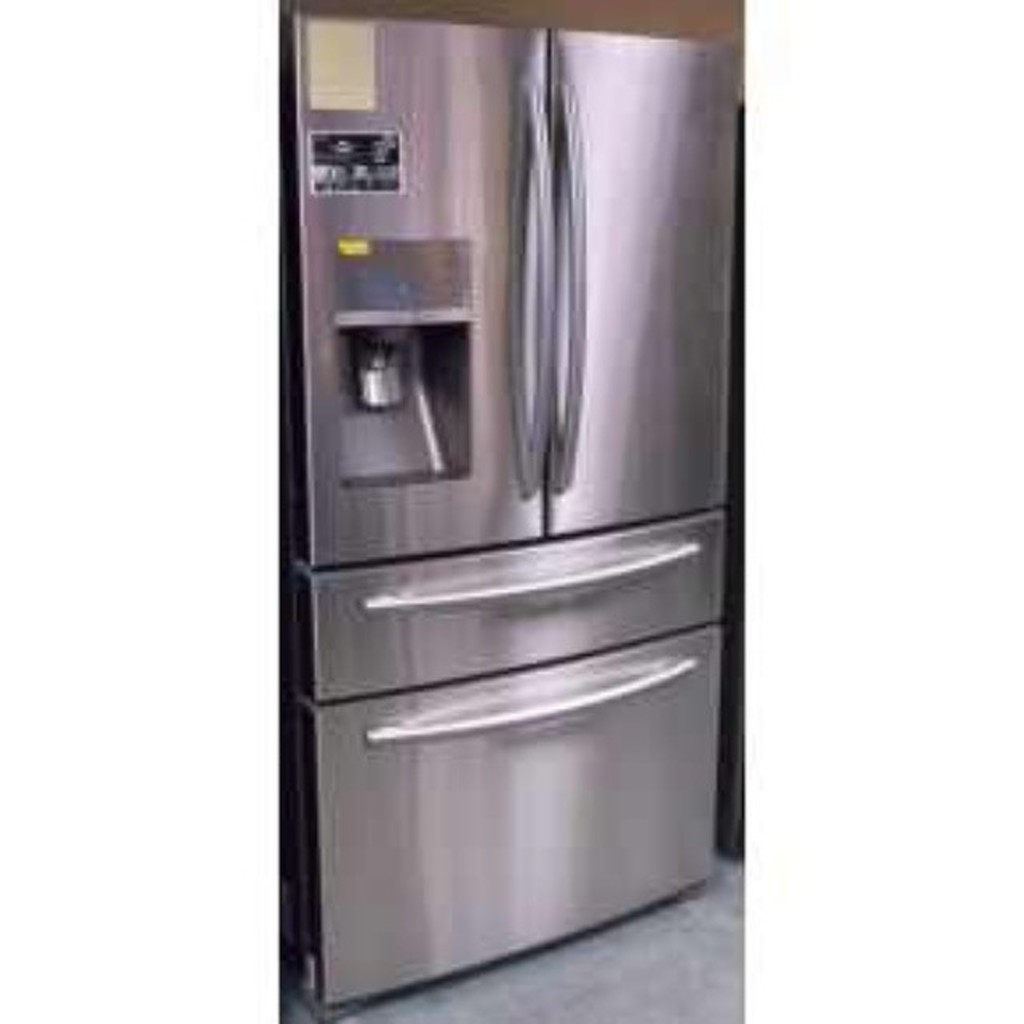handle: (363, 667, 706, 735), (365, 543, 703, 610), (516, 108, 569, 482), (553, 84, 598, 459)
refrigerator door: (302, 27, 538, 539), (546, 38, 727, 525), (326, 671, 708, 897), (313, 543, 723, 651)
